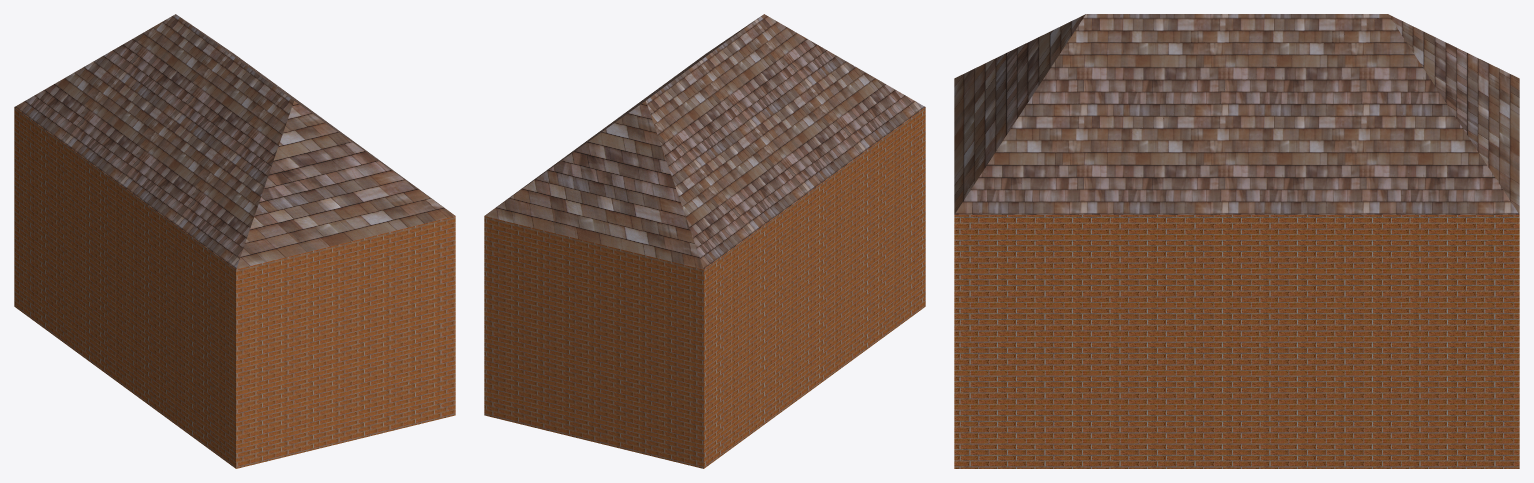
3 renders of one model, left to right at view 1: azimuth 30°, elevation 25°; view 2: azimuth 150°, elevation 25°; view 3: azimuth 270°, elevation 25°, orthographic. The views are drawn at different scales.
Visible parts, largest first — view 1: B2; view 2: B2; view 3: B2.
Boxes of the visible parts, left/top/right/bottom form: B2: left=14, top=14, right=455, bottom=468; B2: left=484, top=14, right=925, bottom=468; B2: left=954, top=14, right=1519, bottom=468.
Bounding box in the file's own units: 8 × 10.57 × 14.
Materials: 2 (2 with a texture image).
